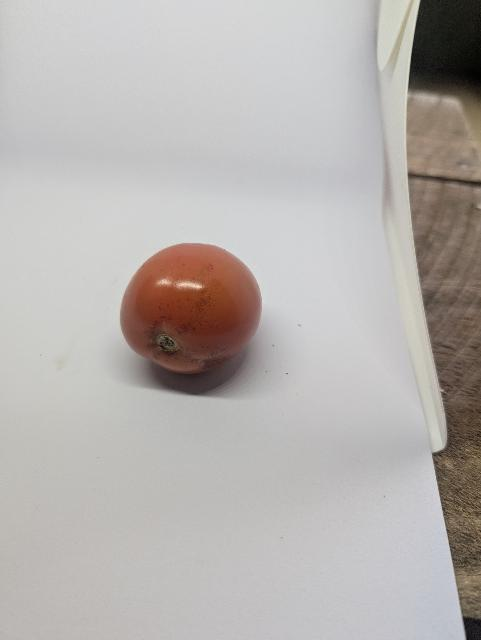red: (114, 236, 274, 381)
